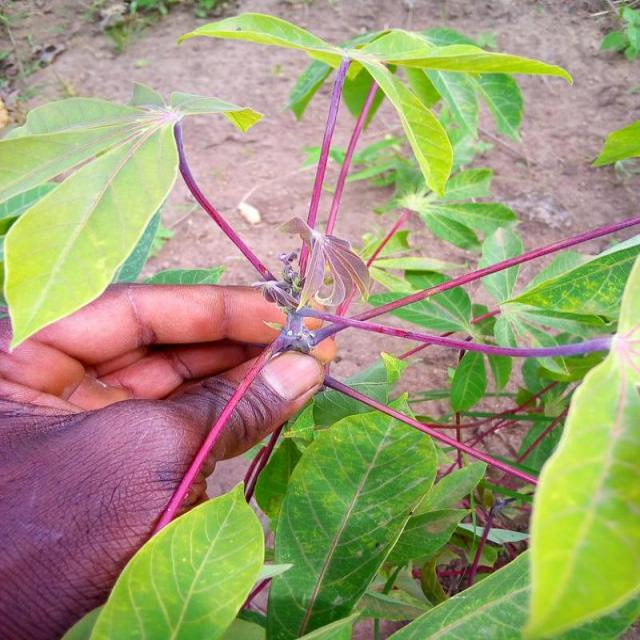cassava leaf: (1, 88, 180, 351), (522, 251, 639, 638), (265, 389, 438, 638), (88, 479, 265, 638)
